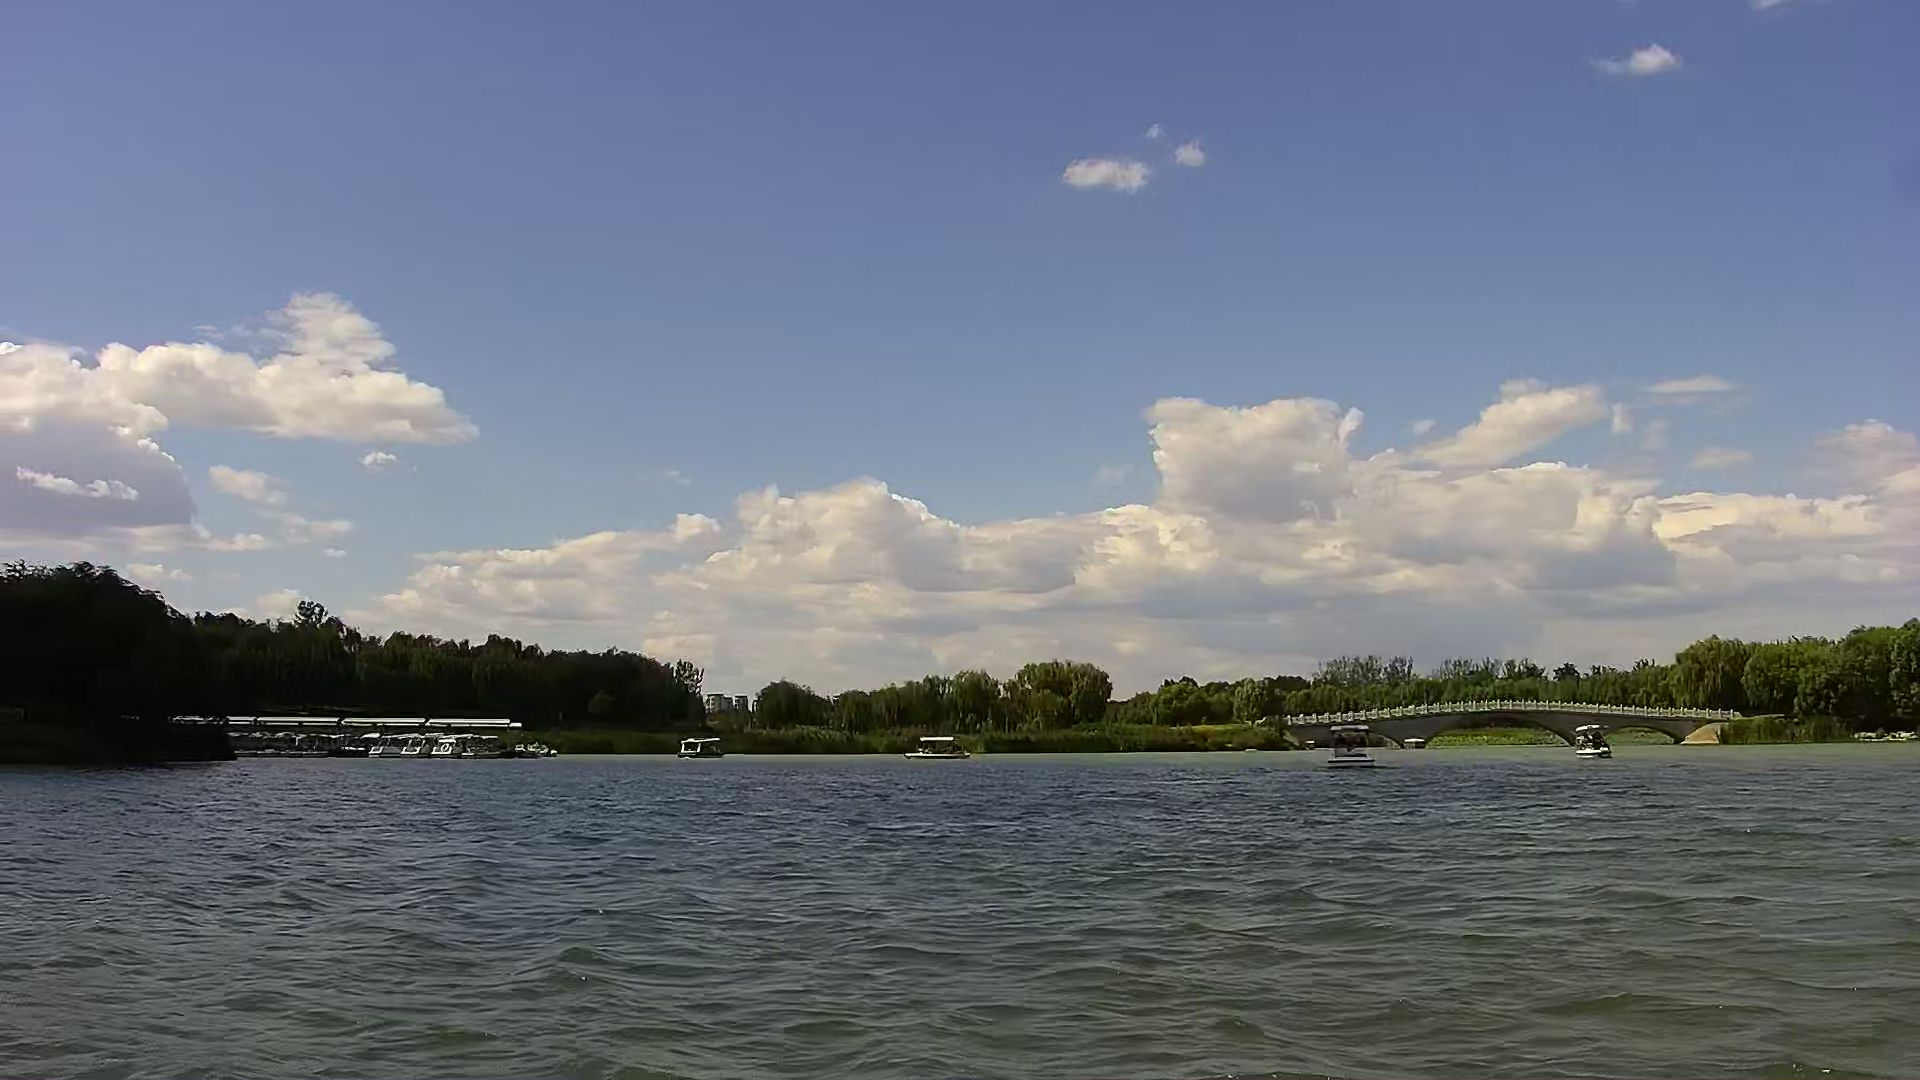boat: (1315, 713, 1389, 767), (1567, 723, 1631, 764), (659, 728, 735, 760), (907, 731, 976, 764), (439, 735, 502, 760), (405, 728, 447, 754), (371, 727, 405, 756)
bridge: (1276, 700, 1741, 746)
